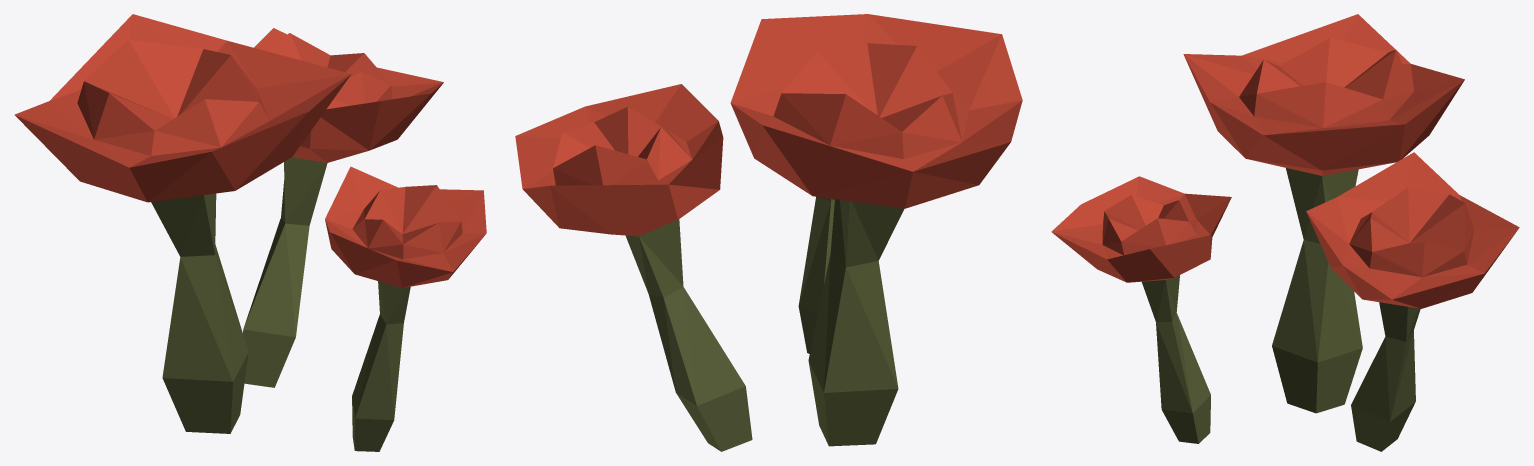
Rendered from SM_Env_Flower_05.glb.
3 renders of one model, left to right at view 1: azimuth 30°, elevation 25°; view 2: azimuth 150°, elevation 25°; view 3: azimuth 270°, elevation 25°, orthographic. The views are drawn at different scales.
Visible parts, largest first — view 1: SM_Env_Flower_05; view 2: SM_Env_Flower_05; view 3: SM_Env_Flower_05.
Boxes of the visible parts, x1,y1,x2,y2 form: SM_Env_Flower_05: (14, 14, 486, 451); SM_Env_Flower_05: (515, 14, 1022, 451); SM_Env_Flower_05: (1051, 14, 1519, 451).
Size of the model in its own units: 4.93 by 3.87 by 4.83.
Materials: 1 (1 with a texture image).
